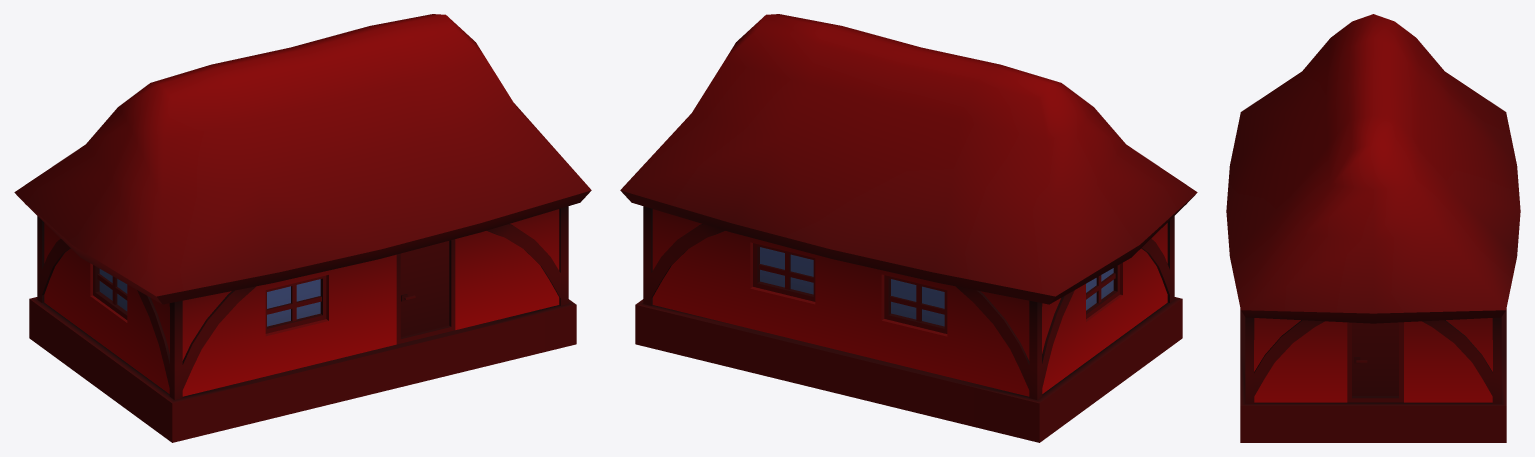
Rendered from buildings-historical-medievalcottage_v3.fbx.
3 renders of one model, left to right at view 1: azimuth 30°, elevation 25°; view 2: azimuth 150°, elevation 25°; view 3: azimuth 270°, elevation 25°, orthographic. The views are drawn at different scales.
Visible parts, largest first — view 1: MedievalCottage_v3_base, MedievalCottage_v3_windowRefl; view 2: MedievalCottage_v3_base, MedievalCottage_v3_windowRefl; view 3: MedievalCottage_v3_base.
Boxes of the visible parts, bbox=[...] form: MedievalCottage_v3_base: bbox=[14, 14, 591, 442]; MedievalCottage_v3_windowRefl: bbox=[99, 269, 320, 326]; MedievalCottage_v3_base: bbox=[620, 14, 1197, 442]; MedievalCottage_v3_windowRefl: bbox=[760, 247, 1113, 326]; MedievalCottage_v3_base: bbox=[1226, 14, 1520, 442].
Bounding box in the file's own units: 12.9 × 7.85 × 7.64.
